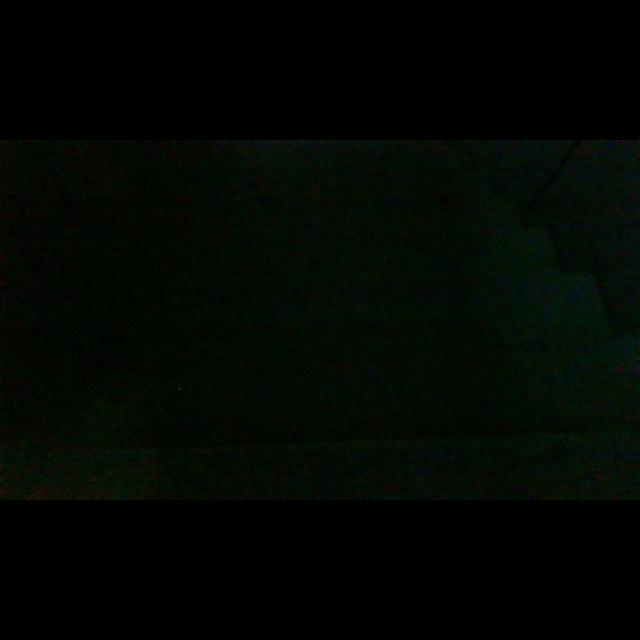stair: (0, 144, 621, 482)
